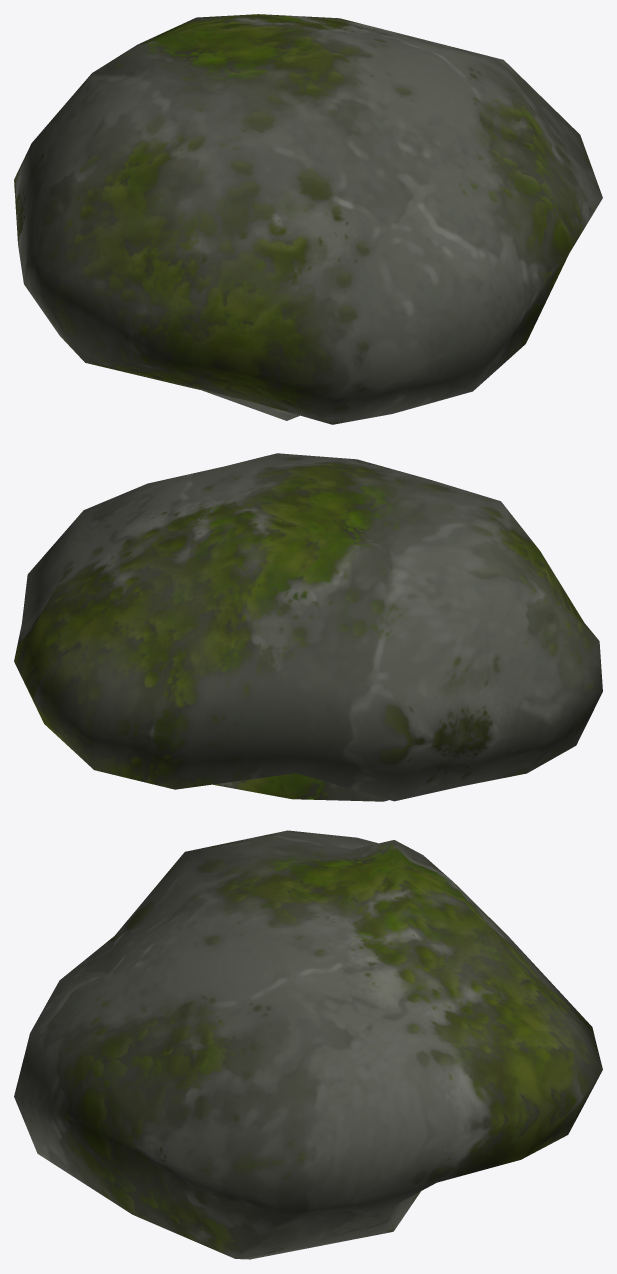
File: Smooth_Boulder_05.fbx
3 views of the same model, one above another, from view 1: azimuth 30°, elevation 25°; view 2: azimuth 150°, elevation 25°; view 3: azimuth 270°, elevation 25° (orthographic). The views are drawn at different scales.
Parts seen in each view (by area): view 1: Smooth_Boulder_05; view 2: Smooth_Boulder_05; view 3: Smooth_Boulder_05.
Part boxes in pixels (x1=…): Smooth_Boulder_05: x1=14, y1=14, x2=602, y2=424; Smooth_Boulder_05: x1=14, y1=453, x2=602, y2=801; Smooth_Boulder_05: x1=14, y1=830, x2=602, y2=1259.
Size of the model in its own units: 6.42 by 3.66 by 6.09.
Materials: 1 (1 with a texture image).
